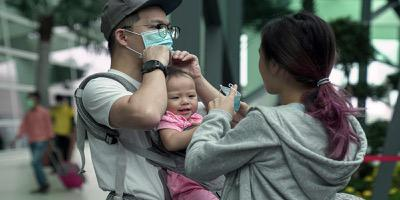with_mask: (129, 15, 174, 66)
without_mask: (165, 89, 199, 121), (257, 48, 276, 96)
